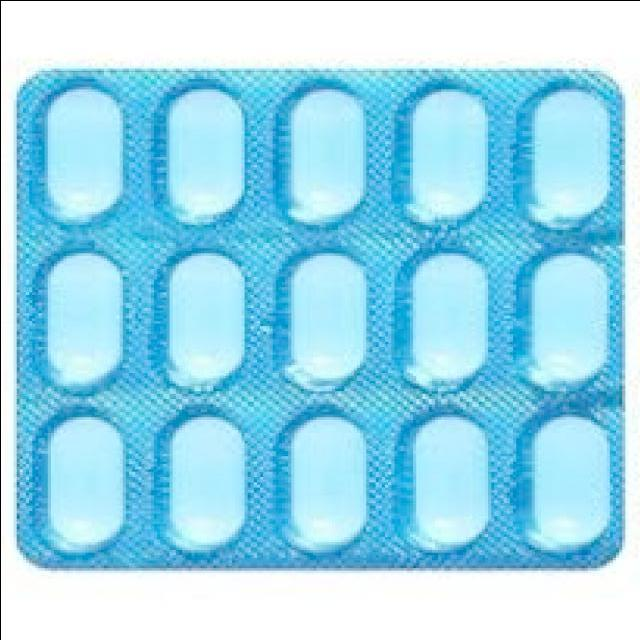authentic: (0, 71, 631, 589)
